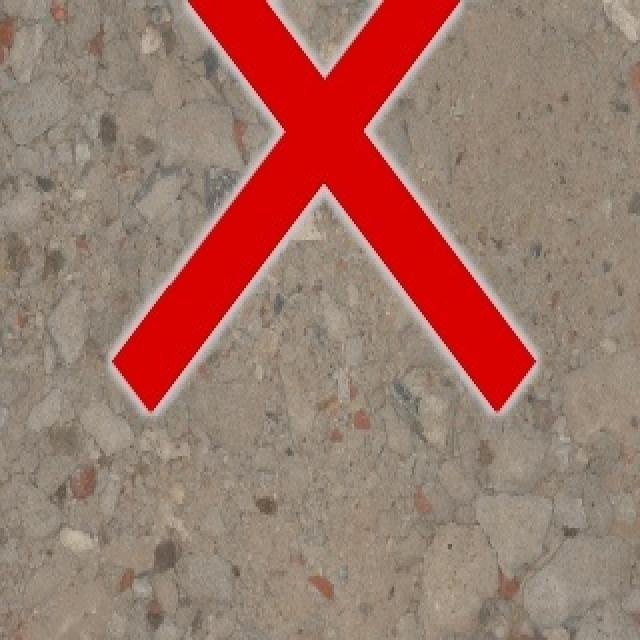x_marker: (111, 0, 535, 411)
